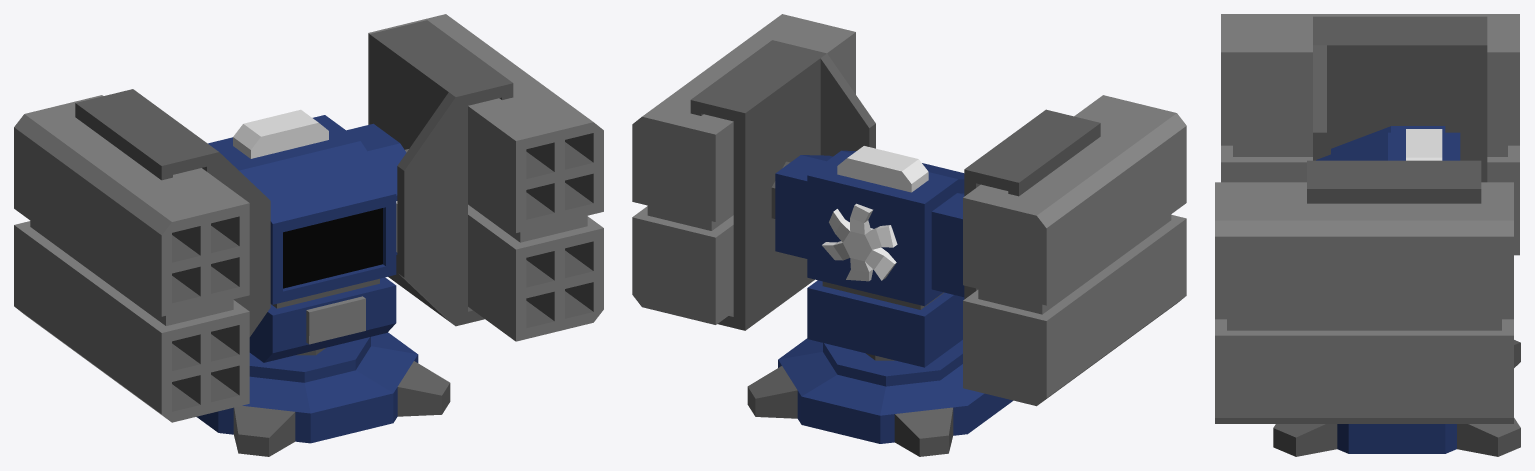
The model's file is CH_Lad.fbx.
3 renders of one model, left to right at view 1: azimuth 30°, elevation 25°; view 2: azimuth 150°, elevation 25°; view 3: azimuth 270°, elevation 25°, orthographic. The views are drawn at different scales.
Parts seen in each view (by area): view 1: LAD_RightArm, LAD_LeftArm, LAD_Body, LAD_Base, LAD_WeakPointTop, LAD_WeakPointFrontPanel; view 2: LAD_RightArm, LAD_LeftArm, LAD_Body, LAD_Base, LAD_WeakPointBack, LAD_WeakPointTop; view 3: LAD_LeftArm, LAD_RightArm, LAD_Base, LAD_Body, LAD_WeakPointTop.
Part boxes in pixels (x1,y1,x2,y2): LAD_RightArm: (14, 89, 270, 422); LAD_LeftArm: (368, 14, 603, 341); LAD_Body: (208, 115, 406, 362); LAD_Base: (196, 332, 450, 456); LAD_WeakPointTop: (233, 109, 328, 158); LAD_WeakPointFrontPanel: (306, 296, 365, 344); LAD_RightArm: (963, 95, 1186, 406); LAD_LeftArm: (632, 14, 875, 330); LAD_Body: (775, 150, 964, 367); LAD_Base: (747, 338, 1012, 456); LAD_WeakPointBack: (822, 203, 897, 281); LAD_WeakPointTop: (837, 146, 928, 192); LAD_LeftArm: (1215, 160, 1513, 423); LAD_RightArm: (1221, 14, 1519, 255); LAD_Base: (1273, 340, 1520, 456); LAD_Body: (1316, 126, 1460, 160); LAD_WeakPointTop: (1406, 129, 1442, 160).
Size of the model in its own units: 854 by 554 by 509.
